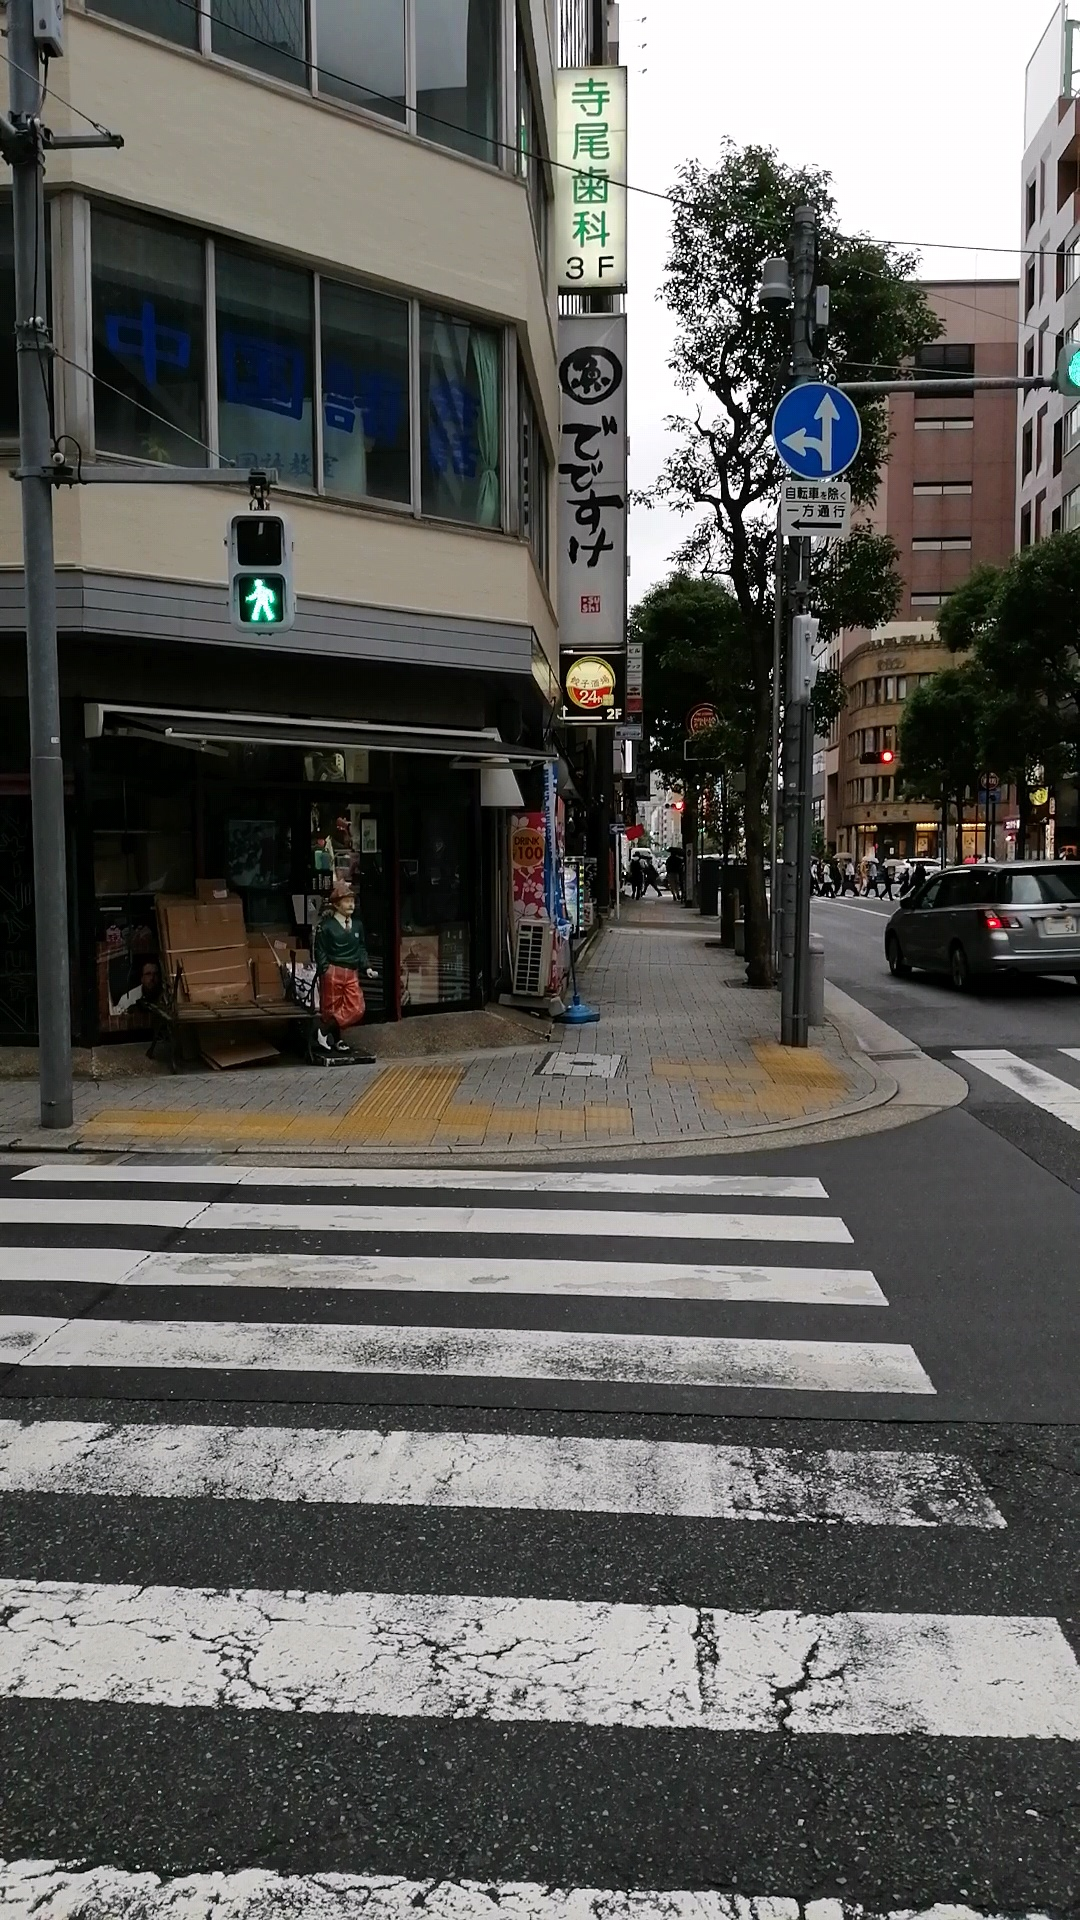green: (228, 514, 295, 632)
